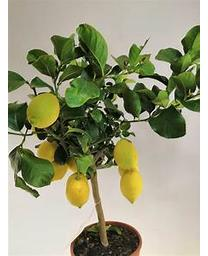lemon: (26, 93, 60, 128), (114, 140, 141, 171), (65, 173, 90, 205), (121, 169, 143, 204), (38, 140, 58, 164)
